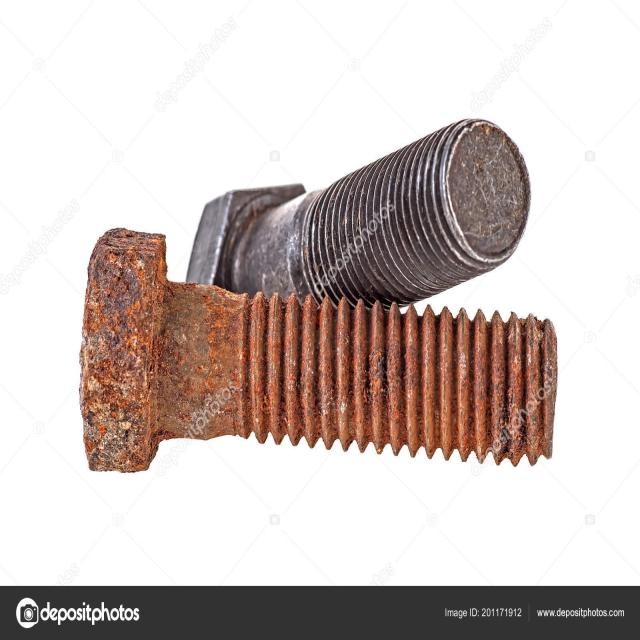corrosion: (65, 258, 563, 483)
